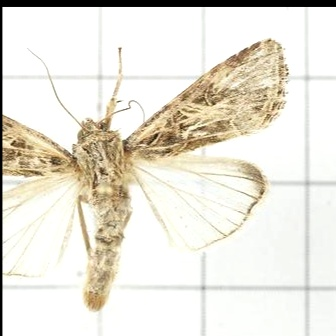Spodoptera litura: (3, 37, 288, 311)
